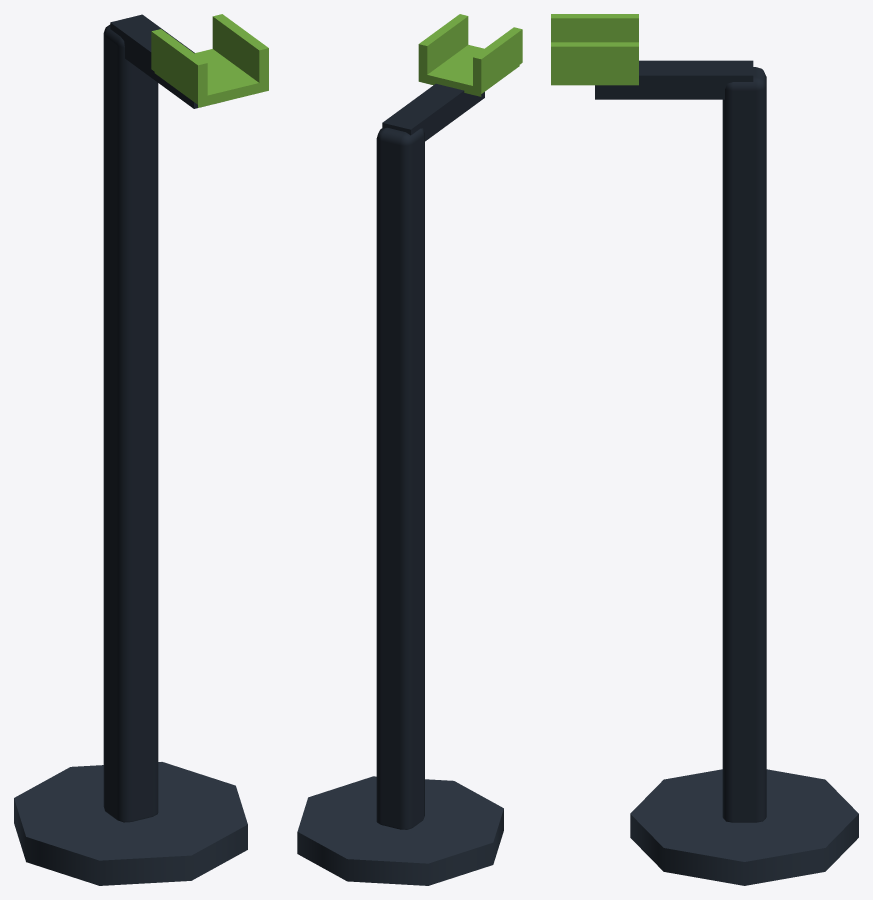
File: suporte_arma.glb
3 views of the same model, side by side, from view 1: azimuth 30°, elevation 25°; view 2: azimuth 150°, elevation 25°; view 3: azimuth 270°, elevation 25° (orthographic). The views are drawn at different scales.
Visible parts, largest first — view 1: suporte_malha; view 2: suporte_malha; view 3: suporte_malha.
Boxes of the visible parts, <box> form: suporte_malha: <box>14,14,268,885</box>; suporte_malha: <box>297,14,522,885</box>; suporte_malha: <box>551,14,858,885</box>.
Bounding box in the file's own units: 0.26 × 1.01 × 0.35.
